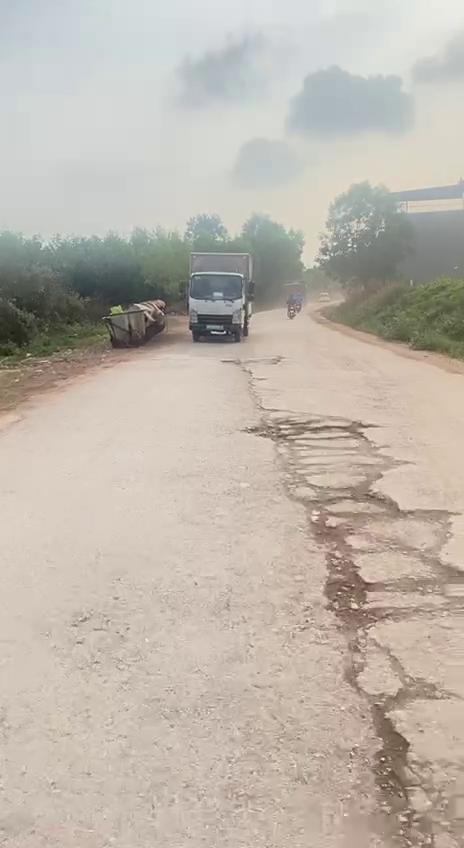pothole: (300, 499, 464, 639), (360, 672, 464, 848), (242, 403, 370, 447)
